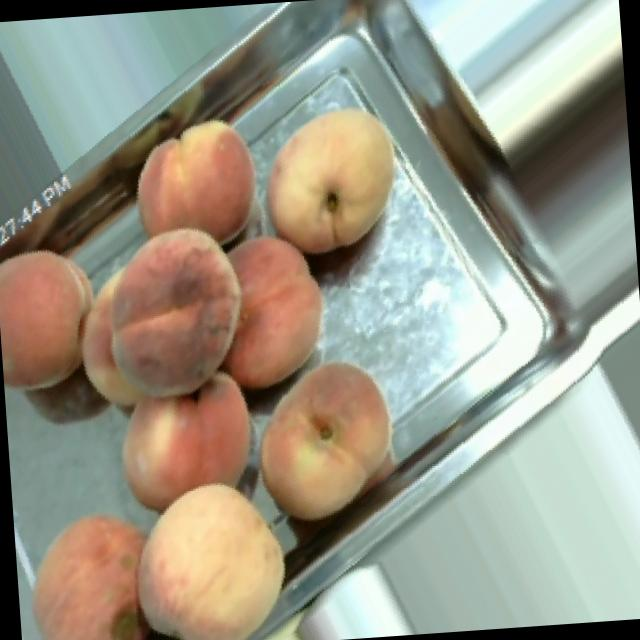Fruit: (60, 146, 300, 430), (232, 340, 420, 544), (239, 80, 429, 275), (130, 460, 316, 640), (12, 487, 153, 640), (0, 220, 104, 415)
